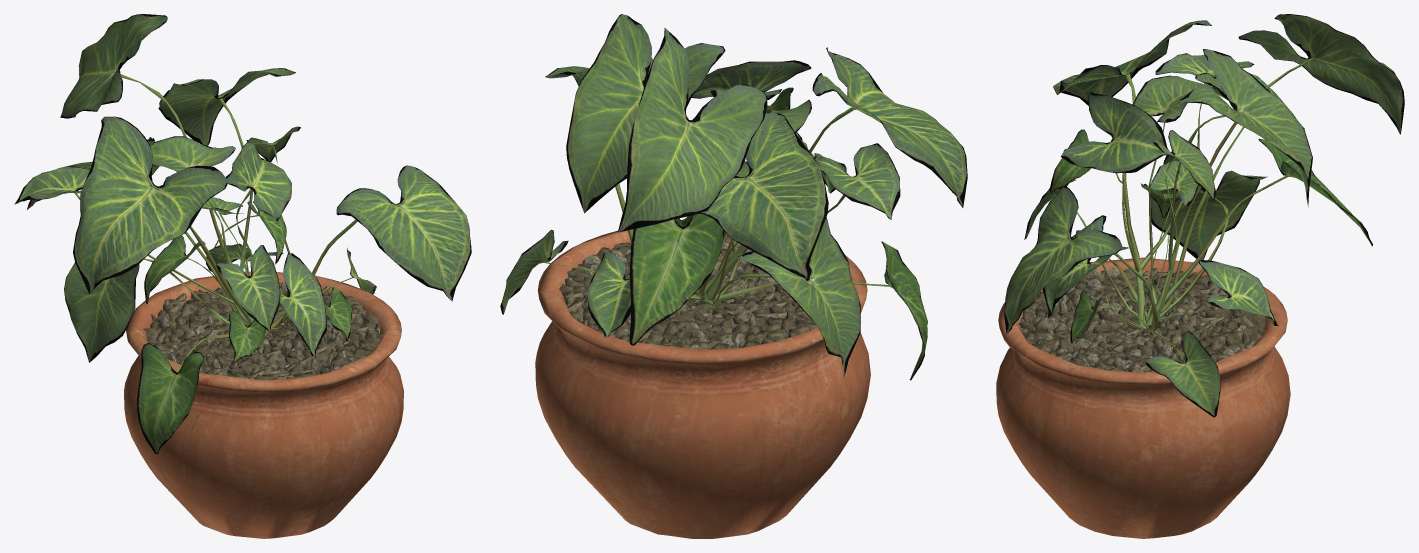
File: potted_plant_02.glb
3 renders of one model, left to right at view 1: azimuth 30°, elevation 25°; view 2: azimuth 150°, elevation 25°; view 3: azimuth 270°, elevation 25°, orthographic. The views are drawn at different scales.
Parts seen in each view (by area): view 1: potted_plant_02_leaves, potted_plant_02_pot, potted_plant_02_dirt; view 2: potted_plant_02_leaves, potted_plant_02_pot, potted_plant_02_dirt; view 3: potted_plant_02_leaves, potted_plant_02_pot, potted_plant_02_dirt.
Boxes of the visible parts, x1,y1,x2,y2 form: potted_plant_02_leaves: (14, 14, 471, 453); potted_plant_02_pot: (124, 271, 403, 538); potted_plant_02_dirt: (143, 282, 382, 380); potted_plant_02_leaves: (500, 14, 967, 380); potted_plant_02_pot: (535, 220, 870, 538); potted_plant_02_dirt: (559, 233, 816, 349); potted_plant_02_leaves: (1004, 14, 1404, 417); potted_plant_02_pot: (996, 257, 1290, 538); potted_plant_02_dirt: (1019, 267, 1265, 372).
Size of the model in its own units: 0.7009 by 0.8412 by 0.6561.
2 materials, 2 textured.
